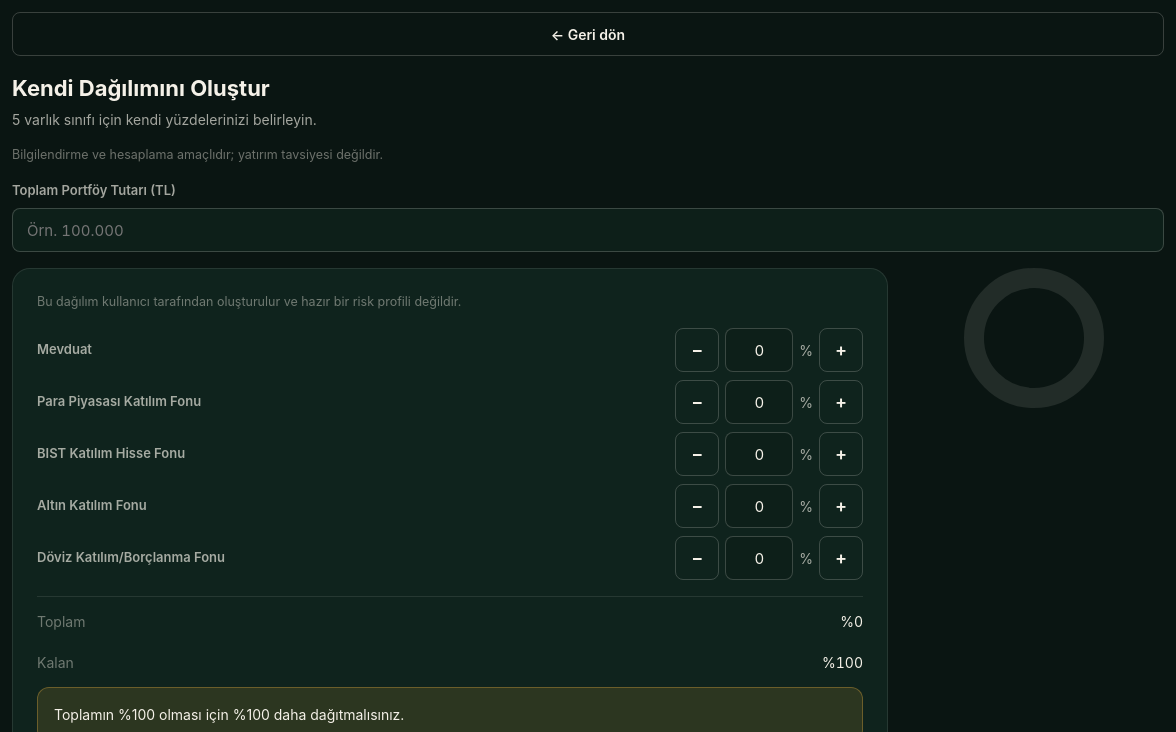
Test case: CustomAllocationPage — toplam kontrolü › +/- düğmeleri yüzdeyi birer birer değiştirir
Click the button named "Mevduat yüzdesini bir artır": (841, 350) [819,328,863,372]
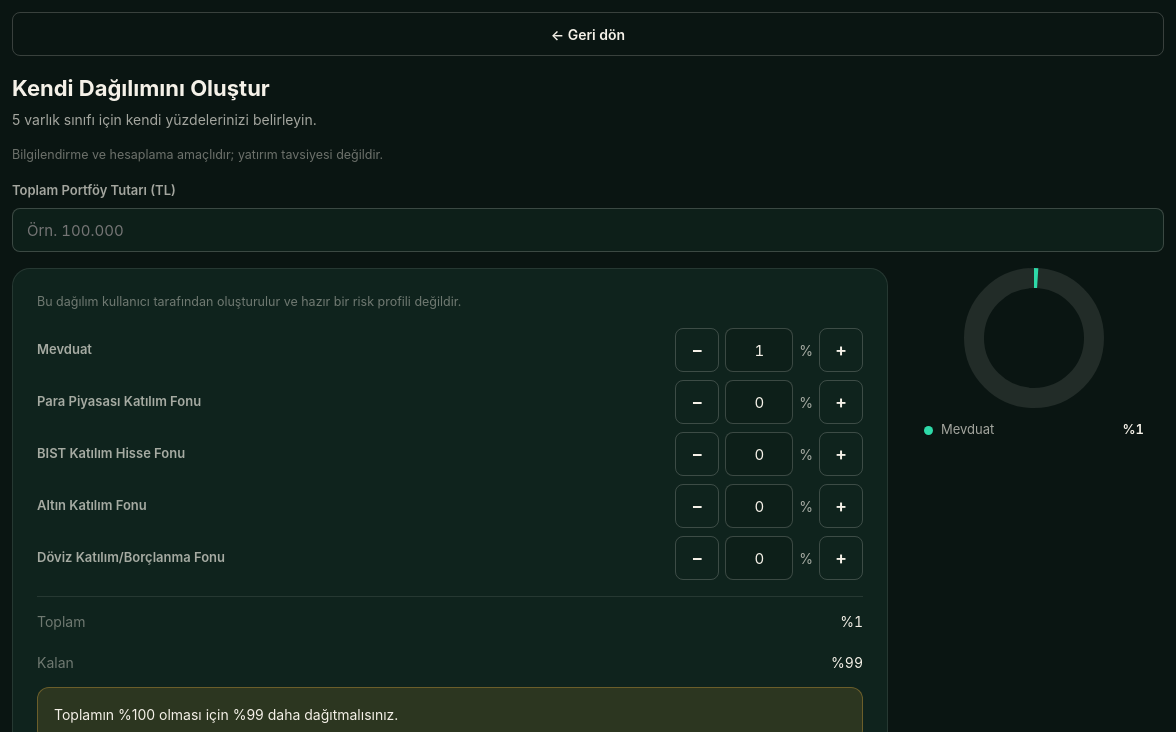
Expected: the number field labelled "Mevduat" holds "1", [725,328,793,372]
Click the button named "Mevduat yüzdesini bir azalt": (697, 350) [675,328,719,372]
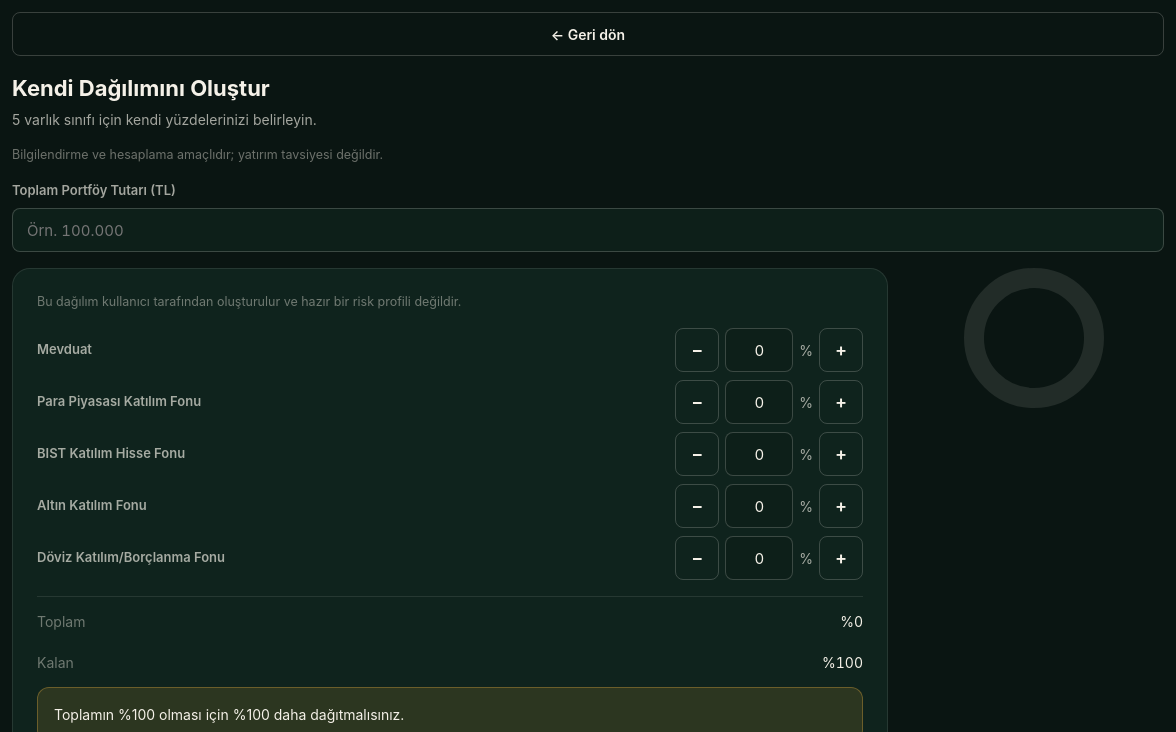
Expected: the number field labelled "Mevduat" holds "0", [725,328,793,372]
